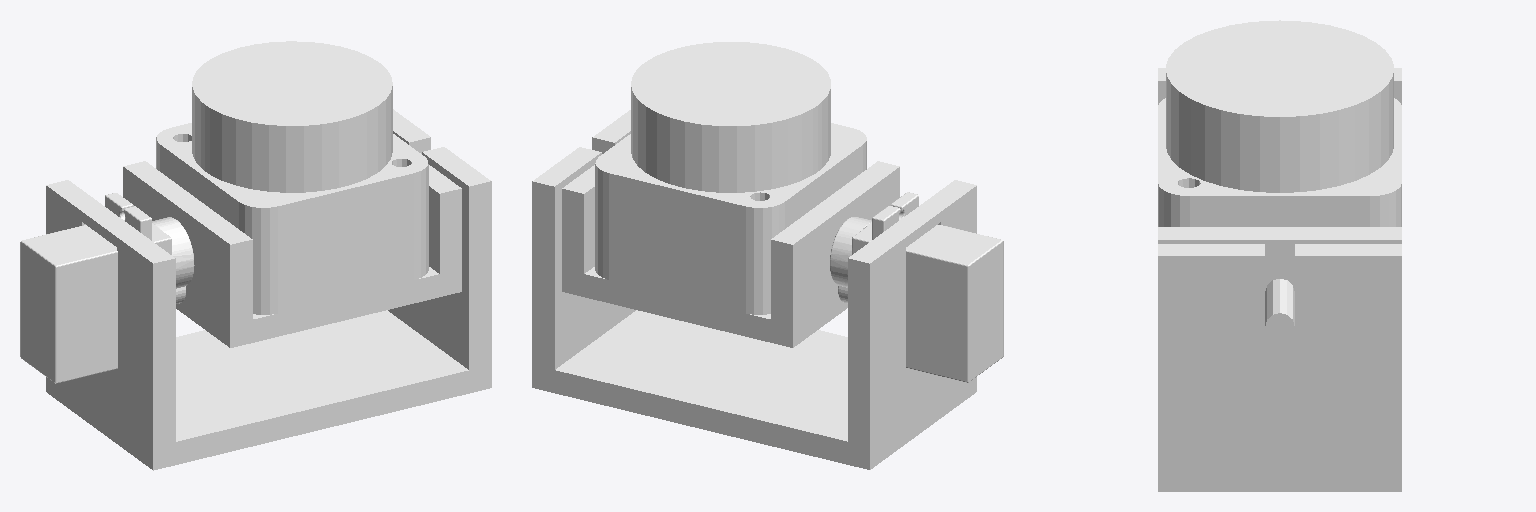
robot.urdf — lidar2d3d:
<?xml version="1.0" encoding="utf-8"?>
<!-- This URDF was automatically created by SolidWorks to URDF Exporter! Originally created by [author] ([email redacted]) 
     Commit Version: 1.6.0-4-g7f85cfe  Build Version: 1.6.7995.38578
     For more information, please see http://wiki.ros.org/sw_urdf_exporter -->
<robot
  name="lidar2d3d">
  <link
    name="base_link">
    <inertial>
      <origin
        xyz="0.00154740367331764 5.03938146073635E-09 0.0114136928965047"
        rpy="0 0 0" />
      <mass
        value="0.031363358635366" />
      <inertia
        ixx="8.4695791679142E-06"
        ixy="-4.80518896934015E-12"
        ixz="-6.40743927850642E-07"
        iyy="2.61440734807356E-05"
        iyz="-3.82268840532547E-12"
        izz="2.55200519746332E-05" />
    </inertial>
    <visual>
      <origin
        xyz="0 0 0"
        rpy="0 0 0" />
      <geometry>
        <mesh
          filename="package://lidar2d3d/meshes/base_link.STL" />
      </geometry>
      <material
        name="">
        <color
          rgba="1 1 1 1" />
      </material>
    </visual>
    <collision>
      <origin
        xyz="0 0 0"
        rpy="0 0 0" />
      <geometry>
        <mesh
          filename="package://lidar2d3d/meshes/base_link.STL" />
      </geometry>
    </collision>
  </link>
  <link
    name="servo">
    <inertial>
      <origin
        xyz="-3.91864554694088E-10 -0.000303386953667116 0.0131624345466137"
        rpy="0 0 0" />
      <mass
        value="0.00914005029947547" />
      <inertia
        ixx="9.53993205539305E-07"
        ixy="4.32065426697326E-15"
        ixz="3.09285310101611E-14"
        iyy="6.32983778790036E-07"
        iyz="3.52076306474141E-08"
        izz="5.54554013843245E-07" />
    </inertial>
    <visual>
      <origin
        xyz="0 0 0"
        rpy="0 0 0" />
      <geometry>
        <mesh
          filename="package://lidar2d3d/meshes/servo.STL" />
      </geometry>
      <material
        name="">
        <color
          rgba="1 1 1 0.3" />
      </material>
    </visual>
    <collision>
      <origin
        xyz="0 0 0"
        rpy="0 0 0" />
      <geometry>
        <mesh
          filename="package://lidar2d3d/meshes/servo.STL" />
      </geometry>
    </collision>
  </link>
  <joint
    name="base_servo_joint"
    type="fixed">
    <origin
      xyz="-0.0468 -0.000150000000000004 0.026"
      rpy="-1.5707963267949 0 -1.5707963267949" />
    <parent
      link="base_link" />
    <child
      link="servo" />
    <axis
      xyz="0 0 0" />
  </joint>
  <link
    name="lidar_base">
    <inertial>
      <origin
        xyz="-0.00015 0.0048347 0.023842"
        rpy="0 0 0" />
      <mass
        value="0.019119" />
      <inertia
        ixx="6.2993E-06"
        ixy="-5.971E-22"
        ixz="-2.7796E-08"
        iyy="7.9061E-06"
        iyz="4.086E-08"
        izz="2.8542E-06" />
    </inertial>
    <visual>
      <origin
        xyz="0 0 0"
        rpy="0 0 0" />
      <geometry>
        <mesh
          filename="package://lidar2d3d/meshes/lidar_base.STL" />
      </geometry>
      <material
        name="">
        <color
          rgba="1 1 1 1" />
      </material>
    </visual>
    <collision>
      <origin
        xyz="0 0 0"
        rpy="0 0 0" />
      <geometry>
        <mesh
          filename="package://lidar2d3d/meshes/lidar_base.STL" />
      </geometry>
    </collision>
  </link>
  <joint
    name="servo_joint"
    type="revolute">
    <origin
      xyz="0 -0.00515 0.0282"
      rpy="0 0 0" />
    <parent
      link="servo" />
    <child
      link="lidar_base" />
    <axis
      xyz="0 0 -1" />
    <limit
      lower="-1.57"
      upper="1.57"
      effort="10"
      velocity="1" />
  </joint>
  <link
    name="lidar">
    <inertial>
      <origin
        xyz="0 -5.20417042793042E-18 0.0154998143571672"
        rpy="0 0 0" />
      <mass
        value="0.0417717623404389" />
      <inertia
        ixx="7.99971570408385E-06"
        ixy="8.4246422382609E-08"
        ixz="-4.11899425993673E-22"
        iyy="7.99971570408385E-06"
        iyz="-2.72771439271018E-22"
        izz="8.56330292733621E-06" />
    </inertial>
    <visual>
      <origin
        xyz="0 0 0"
        rpy="0 0 0" />
      <geometry>
        <mesh
          filename="package://lidar2d3d/meshes/lidar.STL" />
      </geometry>
      <material
        name="">
        <color
          rgba="1 1 1 1" />
      </material>
    </visual>
    <collision>
      <origin
        xyz="0 0 0"
        rpy="0 0 0" />
      <geometry>
        <mesh
          filename="package://lidar2d3d/meshes/lidar.STL" />
      </geometry>
    </collision>
  </link>
  <joint
    name="lidar_joint"
    type="fixed">
    <origin
      xyz="-0.000150000000000004 0.00665 0.0234"
      rpy="1.5707963267949 0 0" />
    <parent
      link="lidar_base" />
    <child
      link="lidar" />
    <axis
      xyz="0 0 0" />
  </joint>
</robot>

--- Render facts (derived) ---
3 views of the same robot in one strip: view 1: azimuth 30°, elevation 25°; view 2: azimuth 150°, elevation 25°; view 3: azimuth 270°, elevation 25° (orthographic).
Robot: lidar2d3d — 4 links, 3 joints (1 revolute, 2 fixed); root link base_link; default pose: all joints at 0.
Links seen in each view (by area): view 1: base_link, lidar, lidar_base, servo; view 2: base_link, lidar, lidar_base, servo; view 3: base_link, lidar, lidar_base.
Link boxes in pixels (x1,y1,x2,y2): base_link: (46,109,491,470); lidar: (156,41,428,314); lidar_base: (123,161,461,347); servo: (20,193,194,383); base_link: (532,110,976,469); lidar: (595,42,866,314); lidar_base: (562,161,899,347); servo: (830,192,1003,382); base_link: (1158,68,1401,491); lidar: (1158,20,1401,226); lidar_base: (1158,227,1401,338).
Bounding box of the posed robot: 0.0876 × 0.0376 × 0.0581 m (x, y, z).
4 mesh visuals loaded from 4 distinct referenced files (4 binary STL).